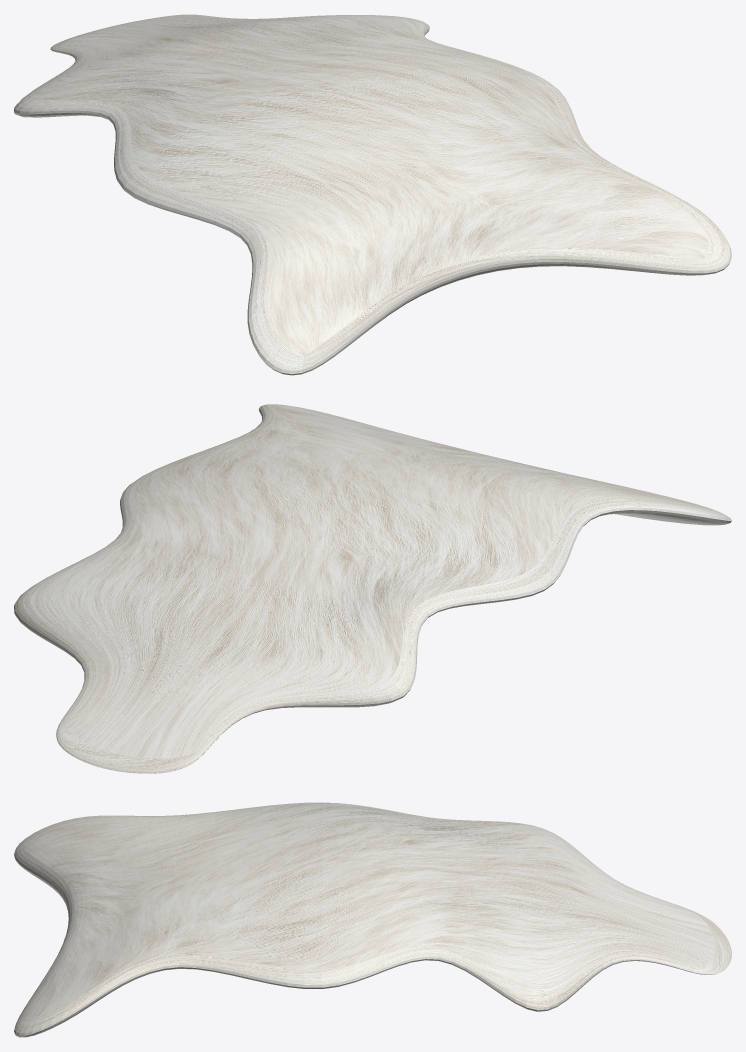
File: fur3.glb
The picture shows the model from 3 angles, top to bottom: view 1: azimuth 30°, elevation 25°; view 2: azimuth 150°, elevation 25°; view 3: azimuth 270°, elevation 25°; orthographic projection. The views are drawn at different scales.
Parts seen in each view (by area): view 1: Cube; view 2: Cube; view 3: Cube.
Boxes of the visible parts, box(x1,y1,x2,y2) form: Cube: box(14, 14, 731, 375); Cube: box(14, 404, 731, 773); Cube: box(14, 802, 731, 1037).
Bounding box in the file's own units: 1.72 × 0.3805 × 2.62.
Materials: 1 (1 with a texture image).
